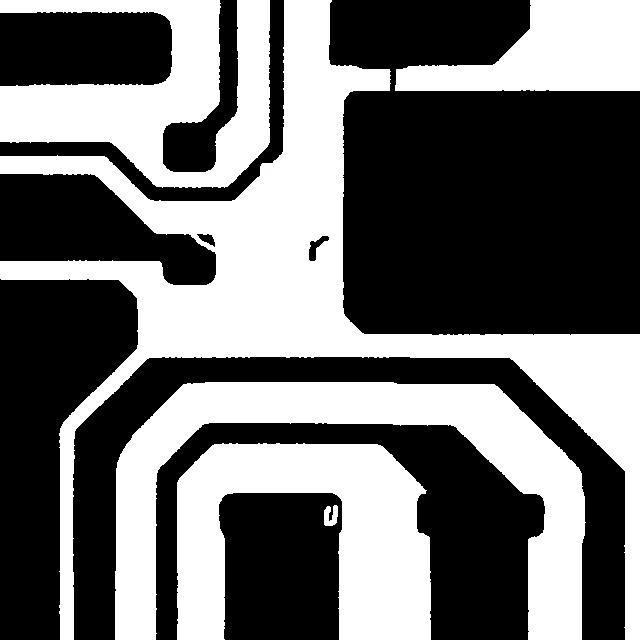copper: (299, 226, 338, 270)
mousebite: (250, 153, 283, 184)
open: (181, 223, 232, 265)
pin-hole: (314, 495, 347, 535)
short: (379, 49, 405, 114)
spur: (407, 484, 438, 542)
